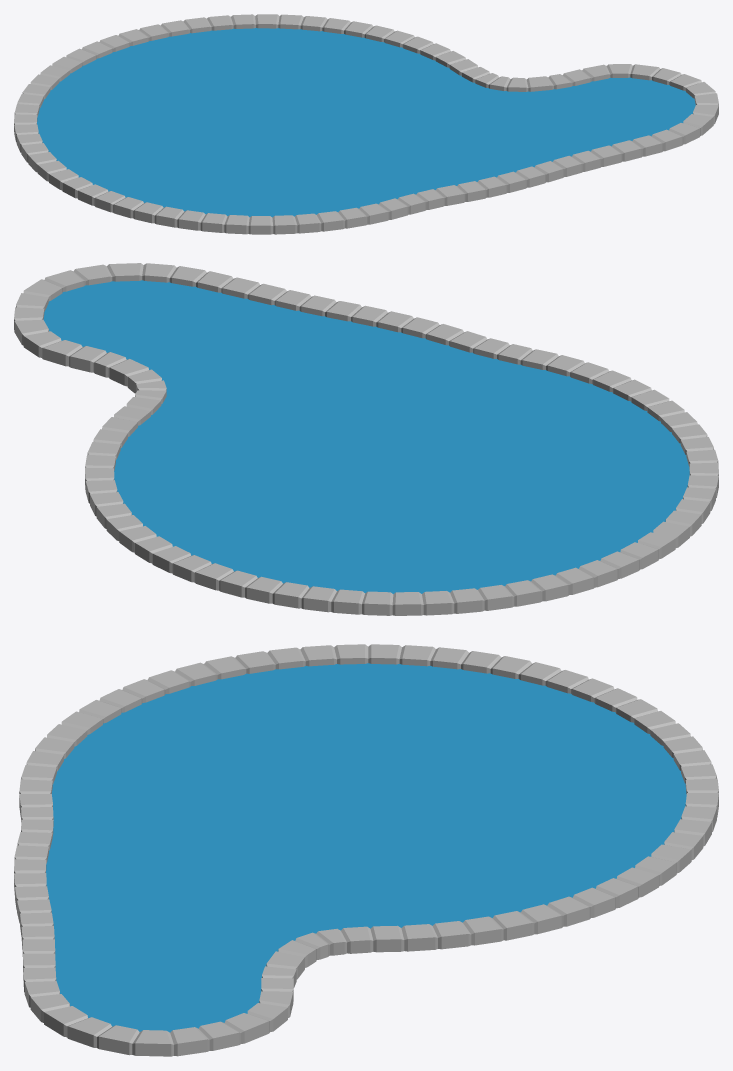
The model's file is park导入1sddd.fbx.
3 renders of one model, top to bottom at view 1: azimuth 30°, elevation 25°; view 2: azimuth 150°, elevation 25°; view 3: azimuth 270°, elevation 25°, orthographic. The views are drawn at different scales.
Parts seen in each view (by area): view 1: park.695, park.131; view 2: park.695, park.131; view 3: park.695, park.131.
Part boxes in pixels (<box>): park.695: <box>37,28,695,217</box>; park.131: <box>14,14,718,234</box>; park.695: <box>43,280,689,593</box>; park.131: <box>14,263,718,615</box>; park.695: <box>46,663,686,1032</box>; park.131: <box>14,644,718,1056</box>.
Size of the model in its own units: 731 by 10.69 by 545.
